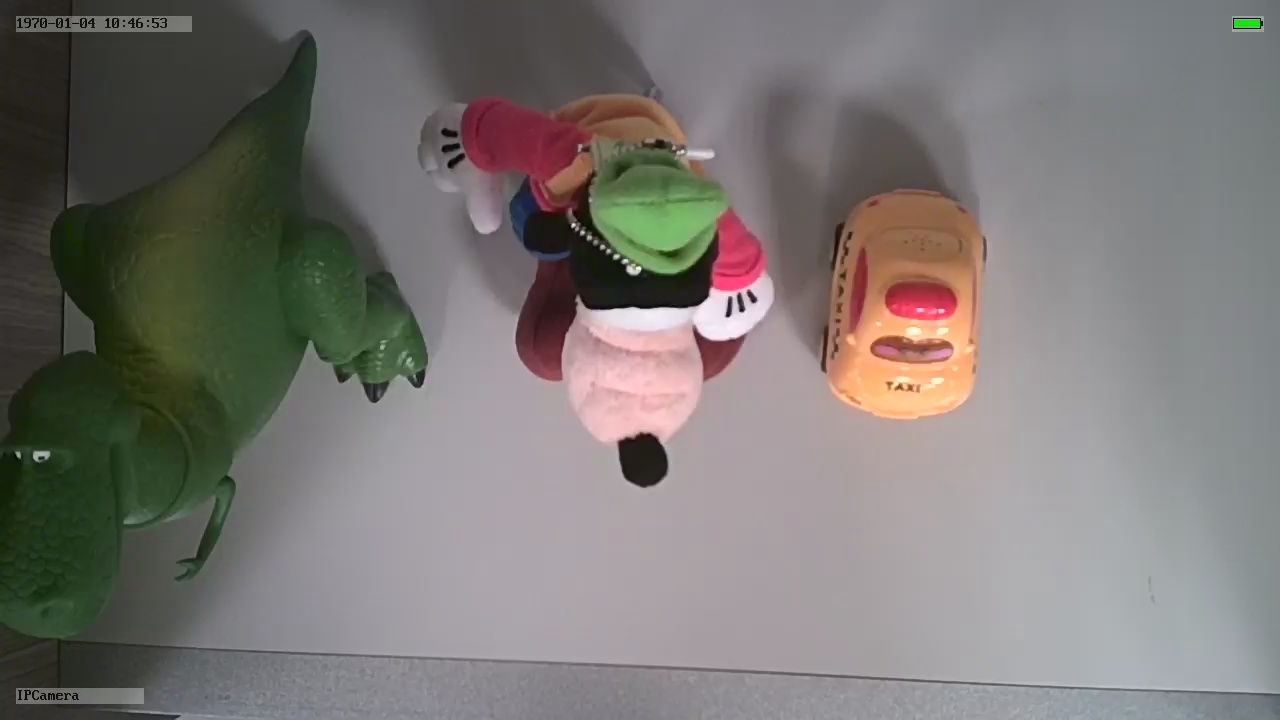car: (816, 177, 987, 426)
goofy: (415, 90, 776, 487)
rex: (1, 143, 427, 641)
